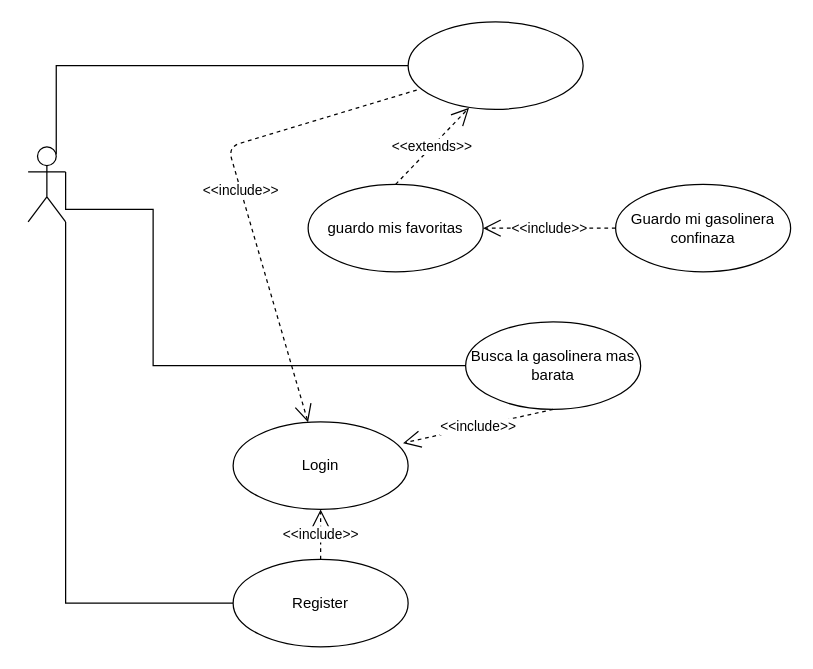
Image size: 813x669. Some labels were removed from this diagram. The shapes that lost their labels are listed below. From the top down, each one's centre as x and y in pixels, then its label:
At [495,65]: "Busco gasolinera".
At [46,184]: "Usuario".
